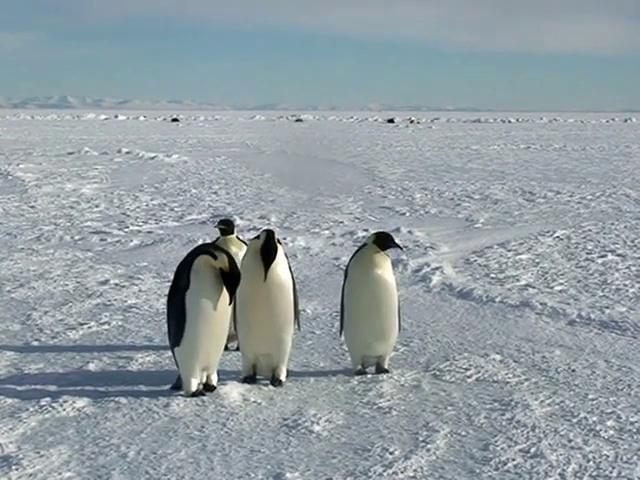animal: (341, 232, 404, 375)
